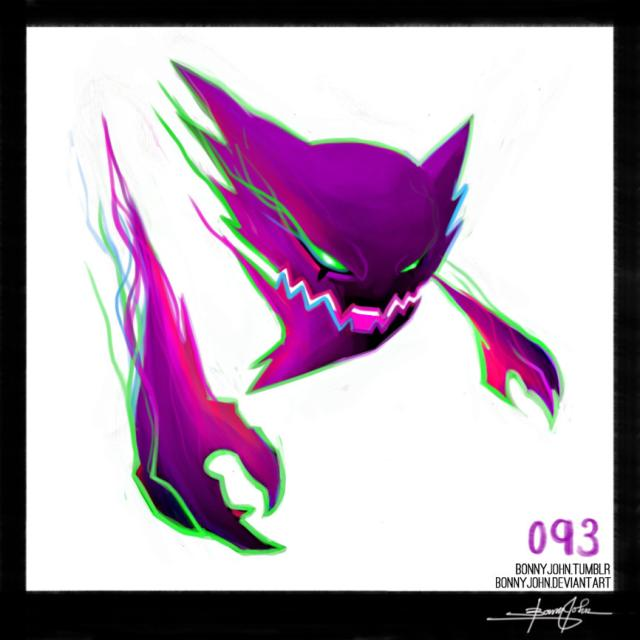Haunter: (142, 113, 492, 424)
